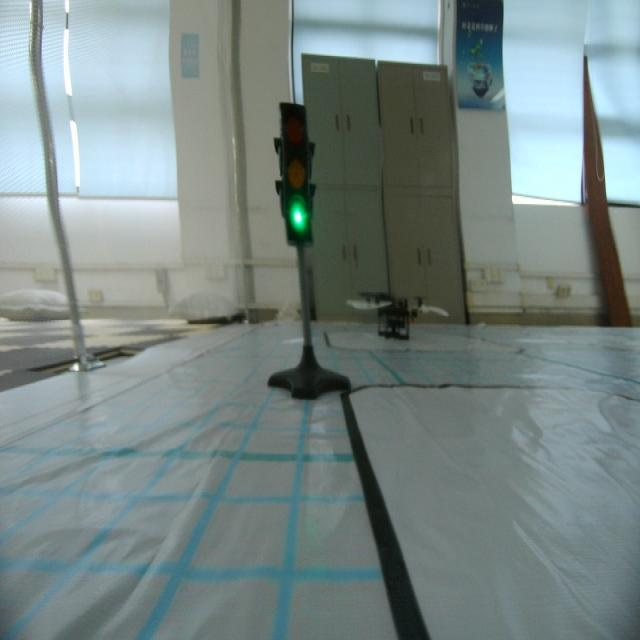green: (276, 98, 318, 250)
